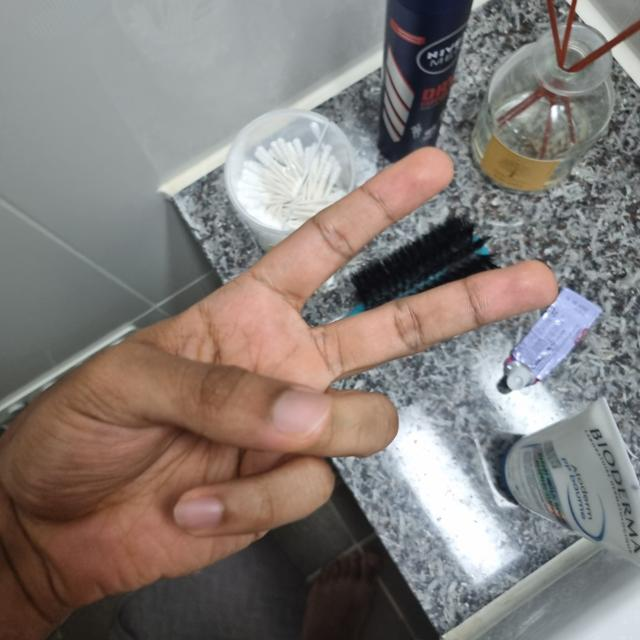Scissors: (0, 144, 558, 628)
